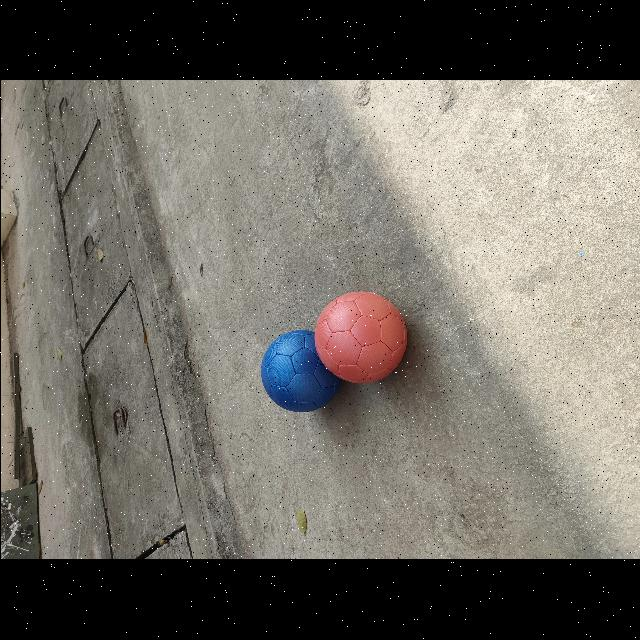B: (260, 331, 340, 413)
R: (314, 293, 406, 384)
